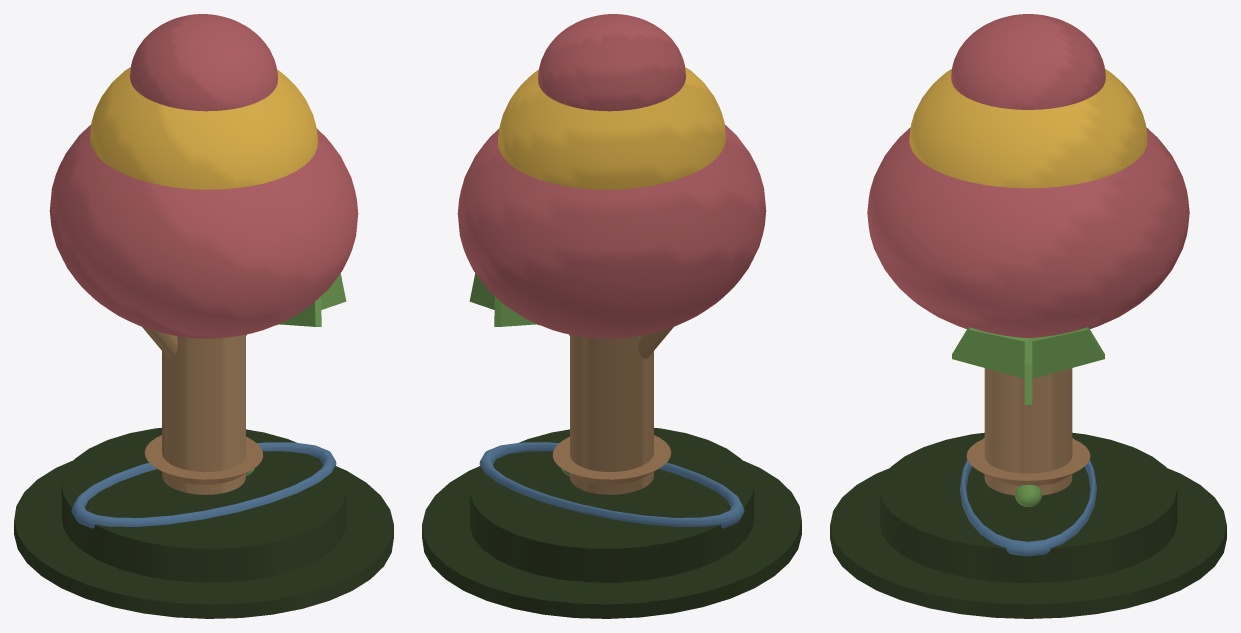
The model's file is 0952_农业科技图鉴_多宝茄树.glb.
3 views of the same model, side by side, from view 1: azimuth 30°, elevation 25°; view 2: azimuth 150°, elevation 25°; view 3: azimuth 270°, elevation 25° (orthographic).
Parts seen in each view (by area): view 1: card_0952; view 2: card_0952; view 3: card_0952.
Part boxes in pixels (bbox=[...]): card_0952: bbox=[14, 14, 393, 618]; card_0952: bbox=[422, 14, 801, 618]; card_0952: bbox=[830, 14, 1226, 618].
Size of the model in its own units: 0.6609 by 1 by 0.6952.
